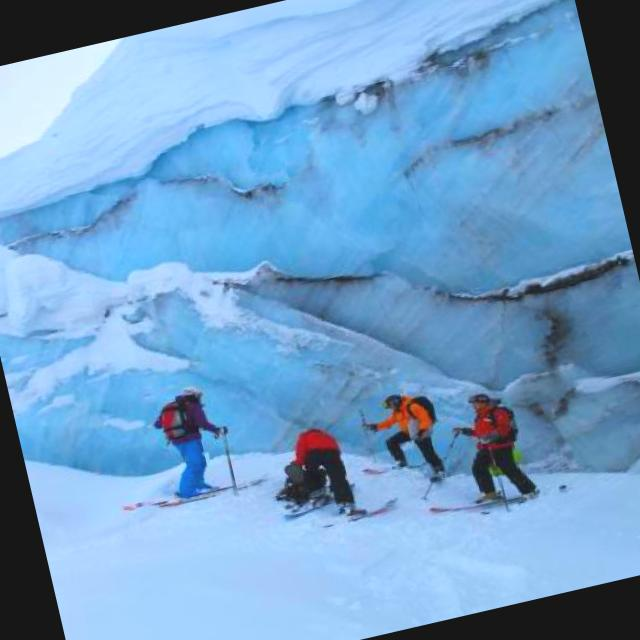Person: (144, 380, 241, 502), (456, 380, 544, 514), (357, 386, 452, 494), (286, 418, 366, 524)
